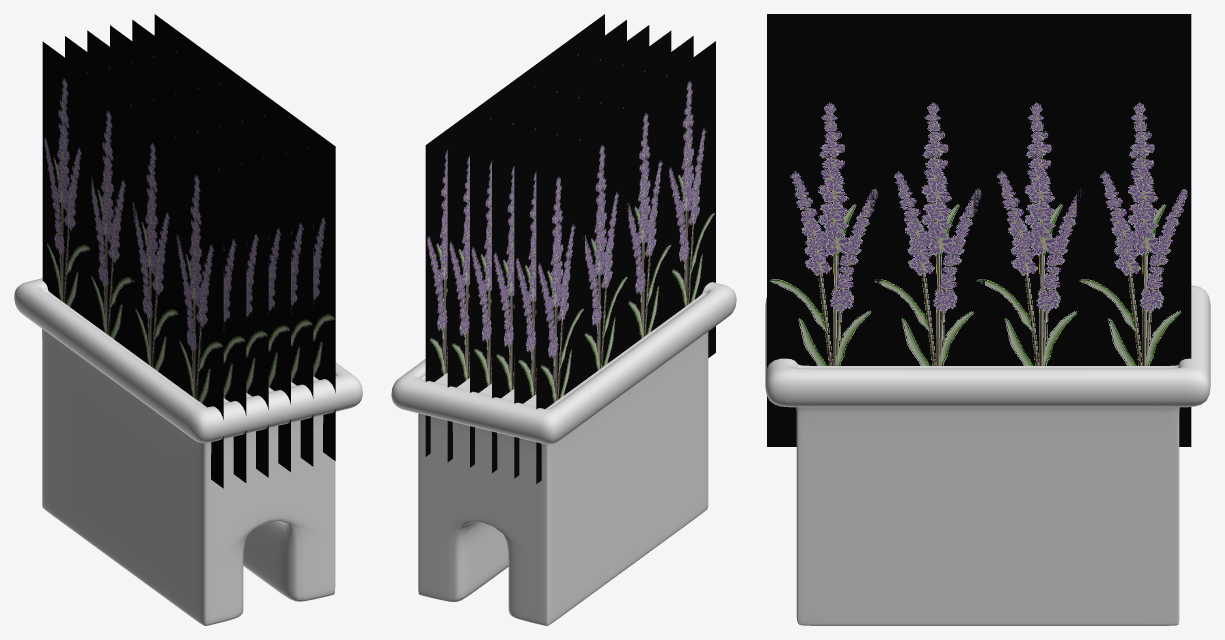
Rendered from lavender.fbx.
3 views of the same model, side by side, from view 1: azimuth 30°, elevation 25°; view 2: azimuth 150°, elevation 25°; view 3: azimuth 270°, elevation 25° (orthographic). The views are drawn at different scales.
Parts seen in each view (by area): view 1: Plane, Cube; view 2: Plane, Cube; view 3: Plane, Cube.
Boxes of the visible parts, box(x1,y1,x2,y2) form: Plane: box(42, 14, 335, 488); Cube: box(14, 278, 362, 625); Plane: box(425, 14, 715, 483); Cube: box(391, 282, 736, 625); Plane: box(767, 14, 1191, 446); Cube: box(765, 285, 1210, 625).
Size of the model in its own units: 64.52 by 169 by 126.
2 materials, 1 textured.
